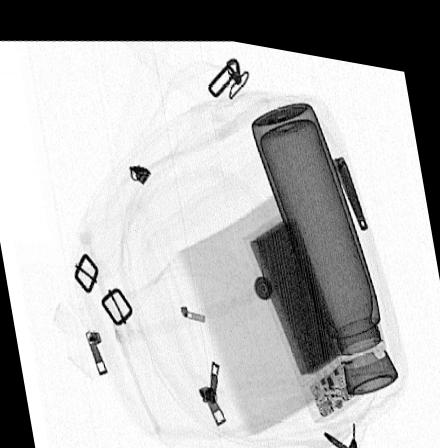Powerbank: (243, 199, 364, 410)
